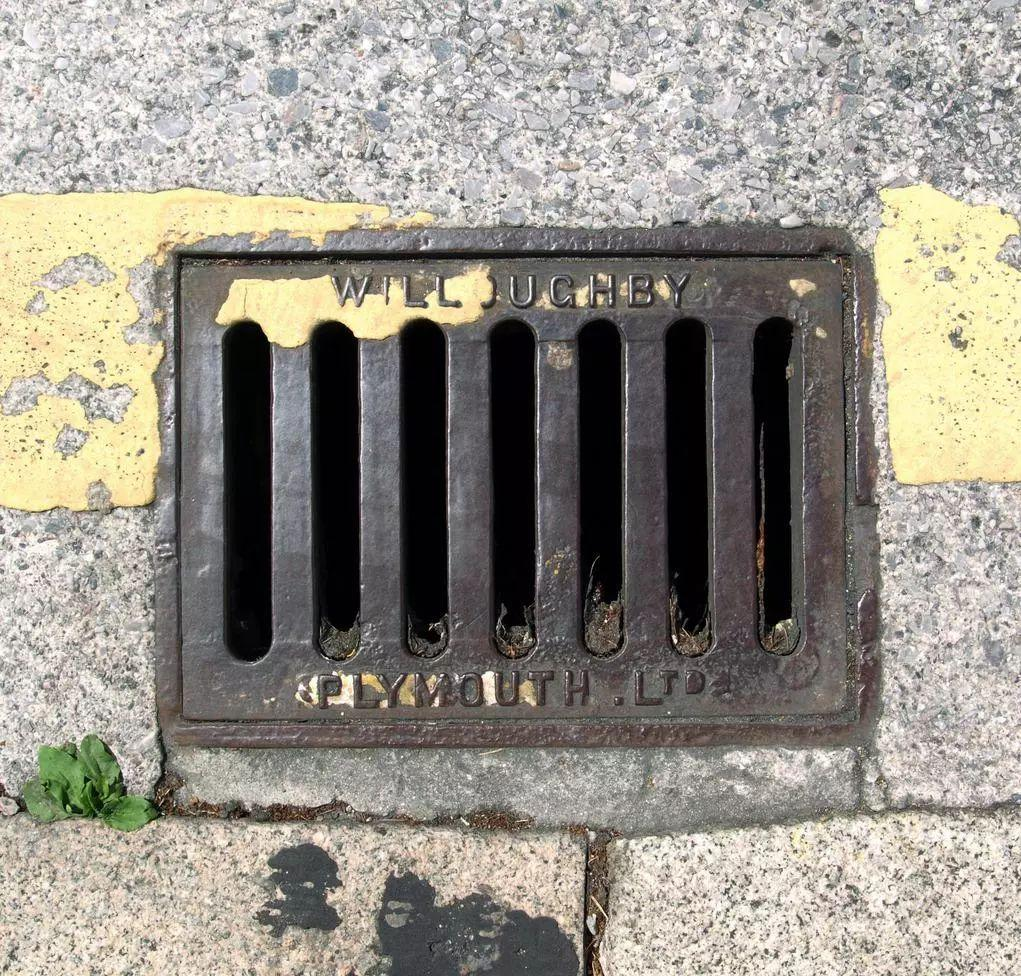wellcover: (144, 204, 889, 767)
